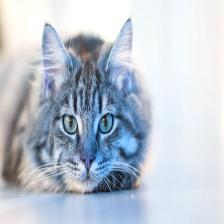kedo: (41, 18, 148, 192)
